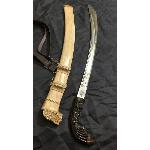Golok: (67, 1, 106, 150)
